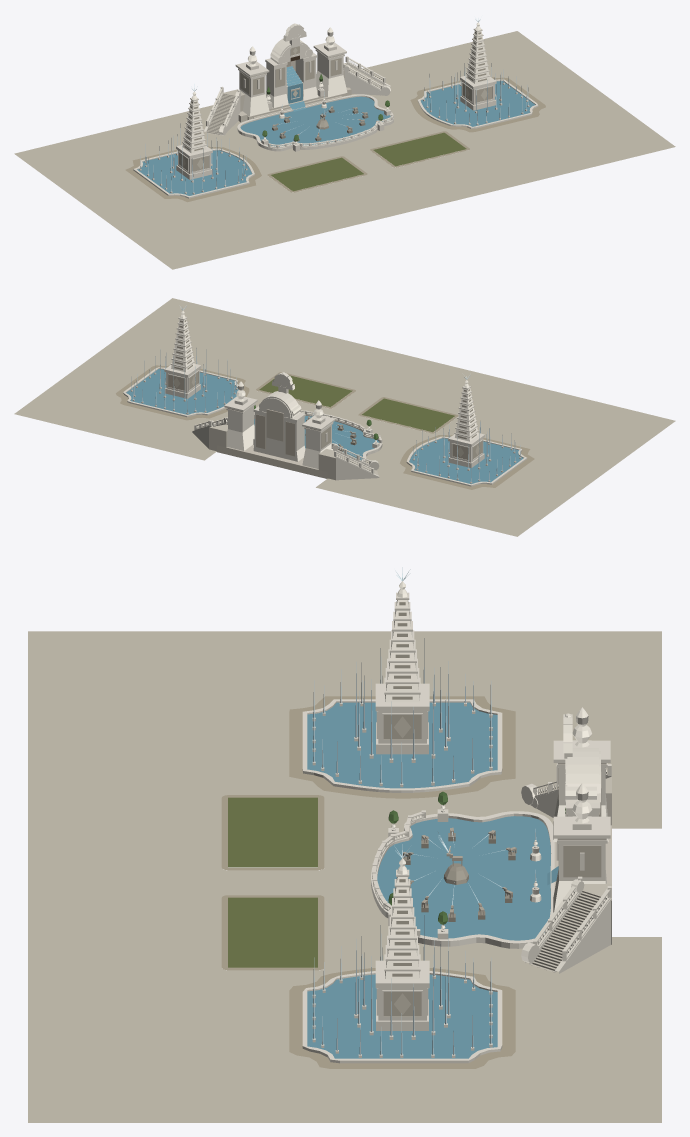
The picture shows the model from 3 angles, top to bottom: view 1: azimuth 30°, elevation 25°; view 2: azimuth 150°, elevation 25°; view 3: azimuth 270°, elevation 25°; orthographic projection. The views are drawn at different scales.
Parts seen in each view (by area): view 1: XY10 大水法 Dashuifa; view 2: XY10 大水法 Dashuifa; view 3: XY10 大水法 Dashuifa.
Part boxes in pixels (box(x1,y1,x2,y2)): XY10 大水法 Dashuifa: box(14, 18, 675, 269); XY10 大水法 Dashuifa: box(14, 298, 675, 536); XY10 大水法 Dashuifa: box(28, 567, 661, 1122).
Bounding box in the file's own units: 110 × 19.25 × 60.
